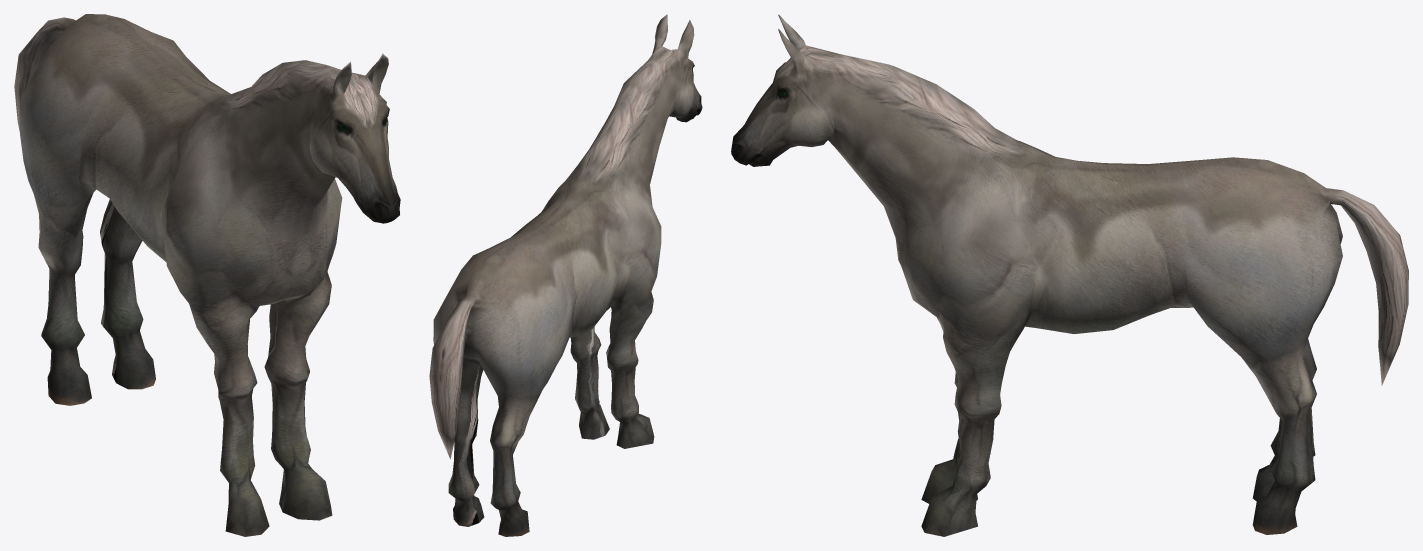
The model's file is Horse5.glb.
3 views of the same model, side by side, from view 1: azimuth 30°, elevation 25°; view 2: azimuth 150°, elevation 25°; view 3: azimuth 270°, elevation 25° (orthographic). The views are drawn at different scales.
Visible parts, largest first — view 1: Horse5; view 2: Horse5; view 3: Horse5.
Part boxes in pixels (left/top/right/bottom): Horse5: left=14, top=14, right=400, bottom=536; Horse5: left=429, top=14, right=702, bottom=536; Horse5: left=731, top=14, right=1408, bottom=536.
Size of the model in its own units: 0.6161 by 1.93 by 2.41.
1 material, 1 textured.
